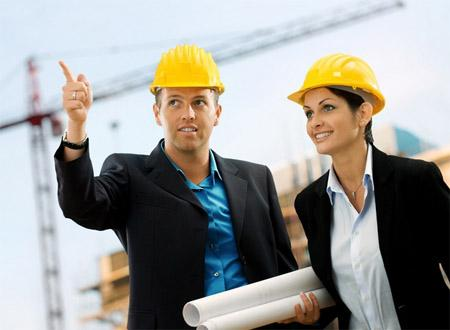helmet: (288, 52, 388, 112), (152, 43, 227, 97)
